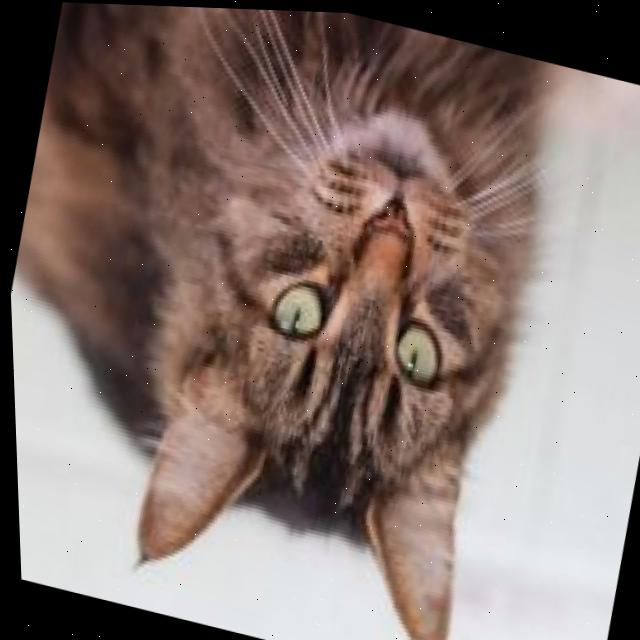Maine Coon: (0, 0, 589, 640)
